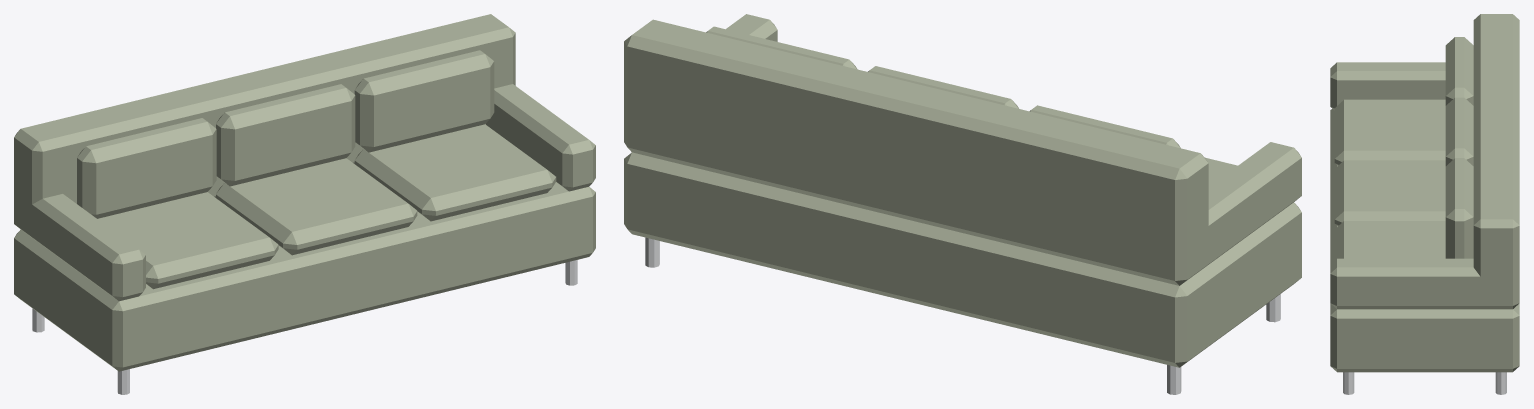
Rendered from sofa.glb.
3 renders of one model, left to right at view 1: azimuth 30°, elevation 25°; view 2: azimuth 150°, elevation 25°; view 3: azimuth 270°, elevation 25°, orthographic. The views are drawn at different scales.
Visible parts, largest first — view 1: sofa_fabric2, sofa_chrome; view 2: sofa_fabric2, sofa_chrome; view 3: sofa_fabric2, sofa_chrome.
Boxes of the visible parts, box(x1,y1,x2,y2) form: sofa_fabric2: box(14, 14, 595, 371); sofa_chrome: box(32, 260, 577, 394); sofa_fabric2: box(624, 14, 1301, 367); sofa_chrome: box(645, 237, 1280, 394); sofa_fabric2: box(1330, 14, 1519, 372); sofa_chrome: box(1343, 372, 1506, 394).
Size of the model in its own units: 2.16 by 0.85 by 0.82.
